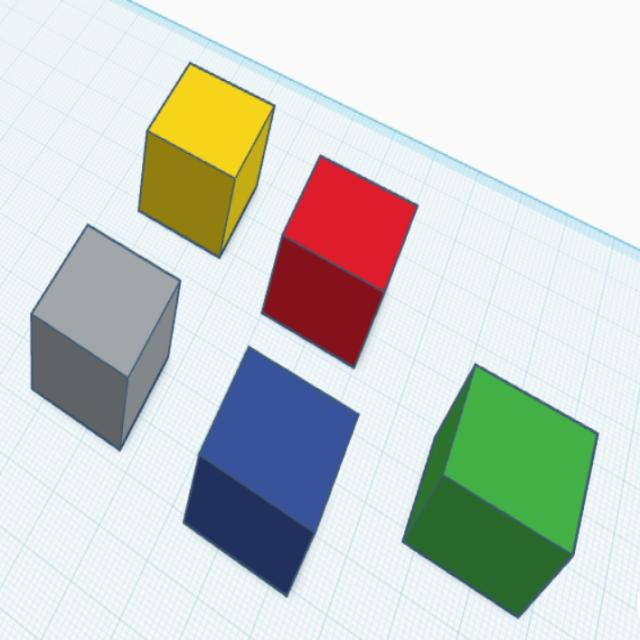cube: (398, 359, 602, 623), (180, 342, 362, 599), (27, 220, 183, 454), (258, 151, 422, 371), (135, 59, 278, 262)
